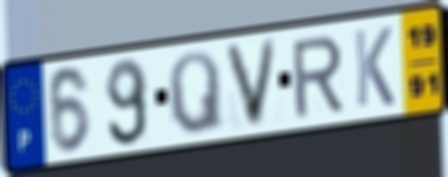6: (47, 63, 95, 156)
9: (104, 55, 151, 150)
K: (351, 24, 397, 110)
Q: (165, 48, 227, 137)
R: (289, 32, 346, 121)
V: (221, 35, 281, 131)
